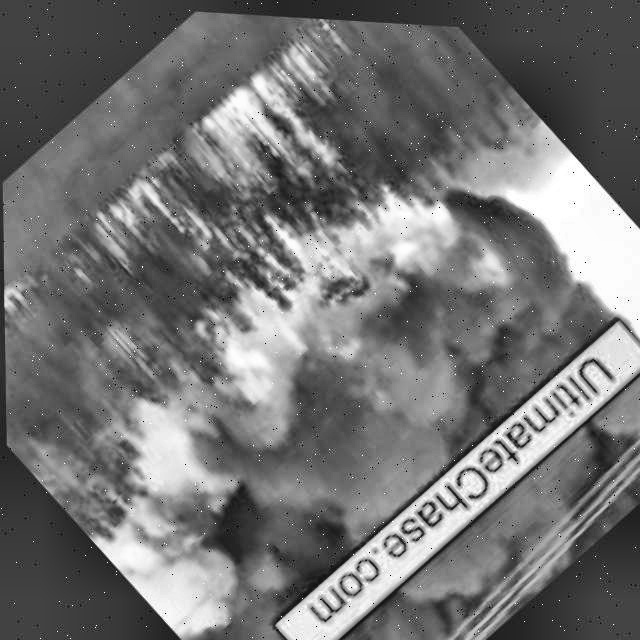Fire: (75, 20, 518, 479), (3, 276, 31, 347)
Smoke: (138, 212, 624, 640), (247, 323, 640, 640)
